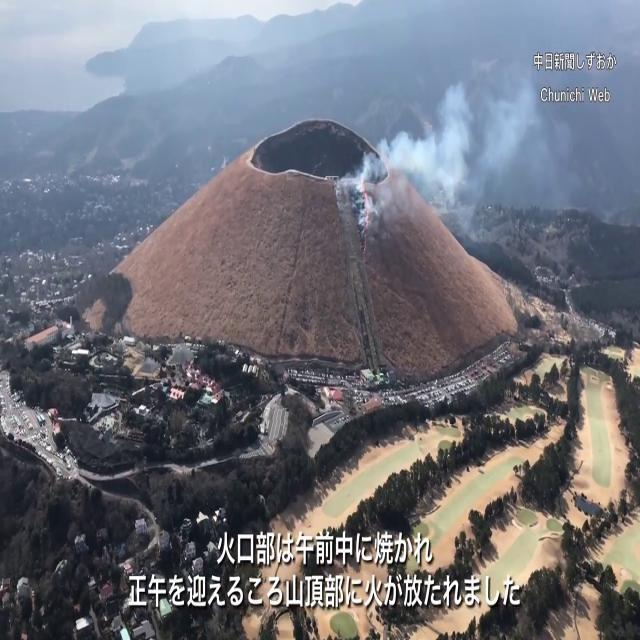Smoke: (337, 59, 548, 222)
